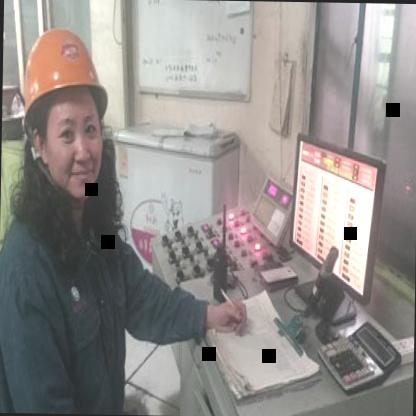helmet: (11, 11, 120, 210)
